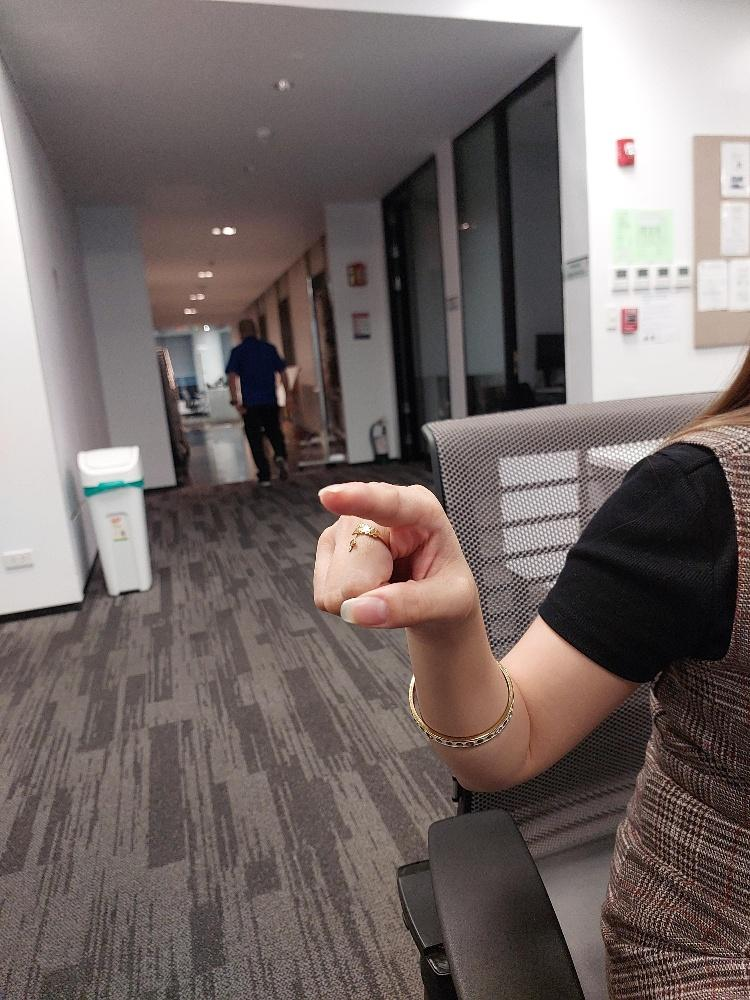z: (308, 478, 479, 636)
